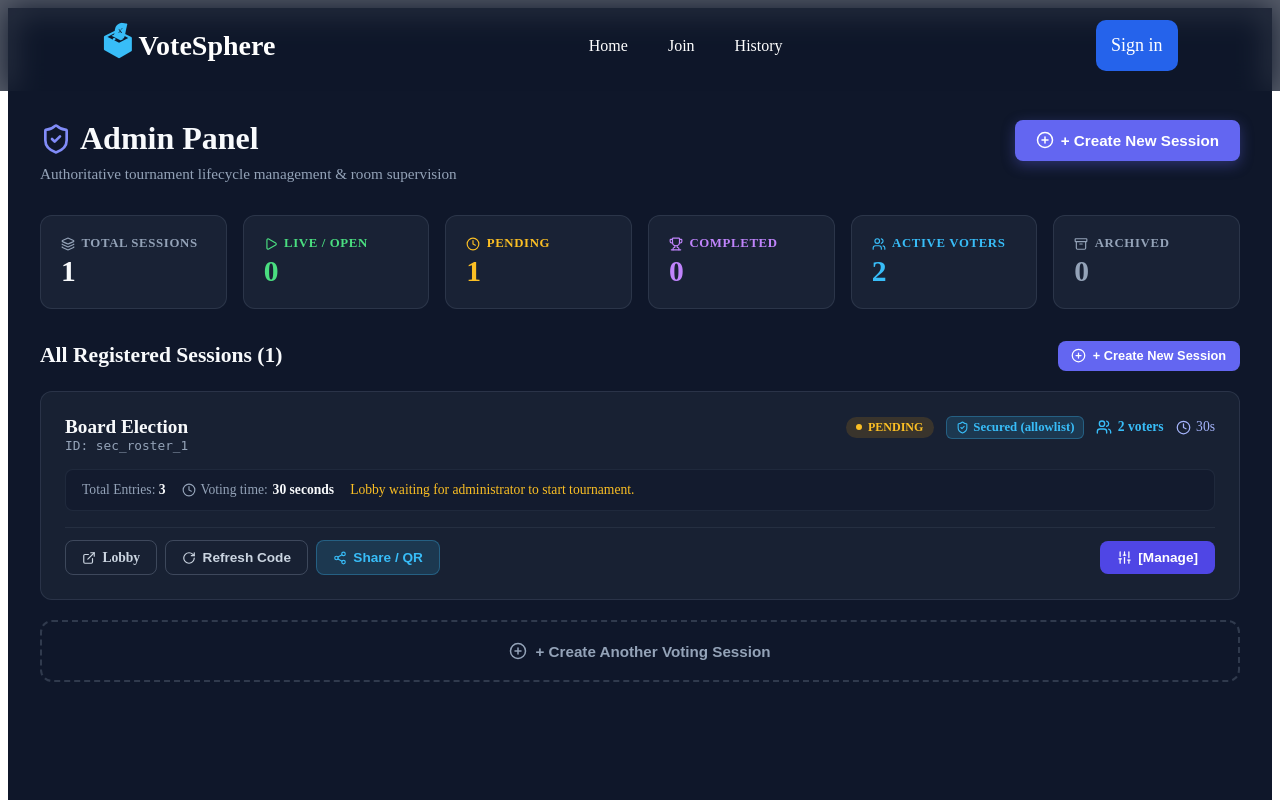
Scenario: Admin roster subscription survives reconnect (review minor 2026-10-03) › subscribes to the roster when Manage is opened
The image size is (1280, 800).
Click the button with test id "manage-session-sec_roster_1" at (1157, 558), box [1100,541,1215,574]
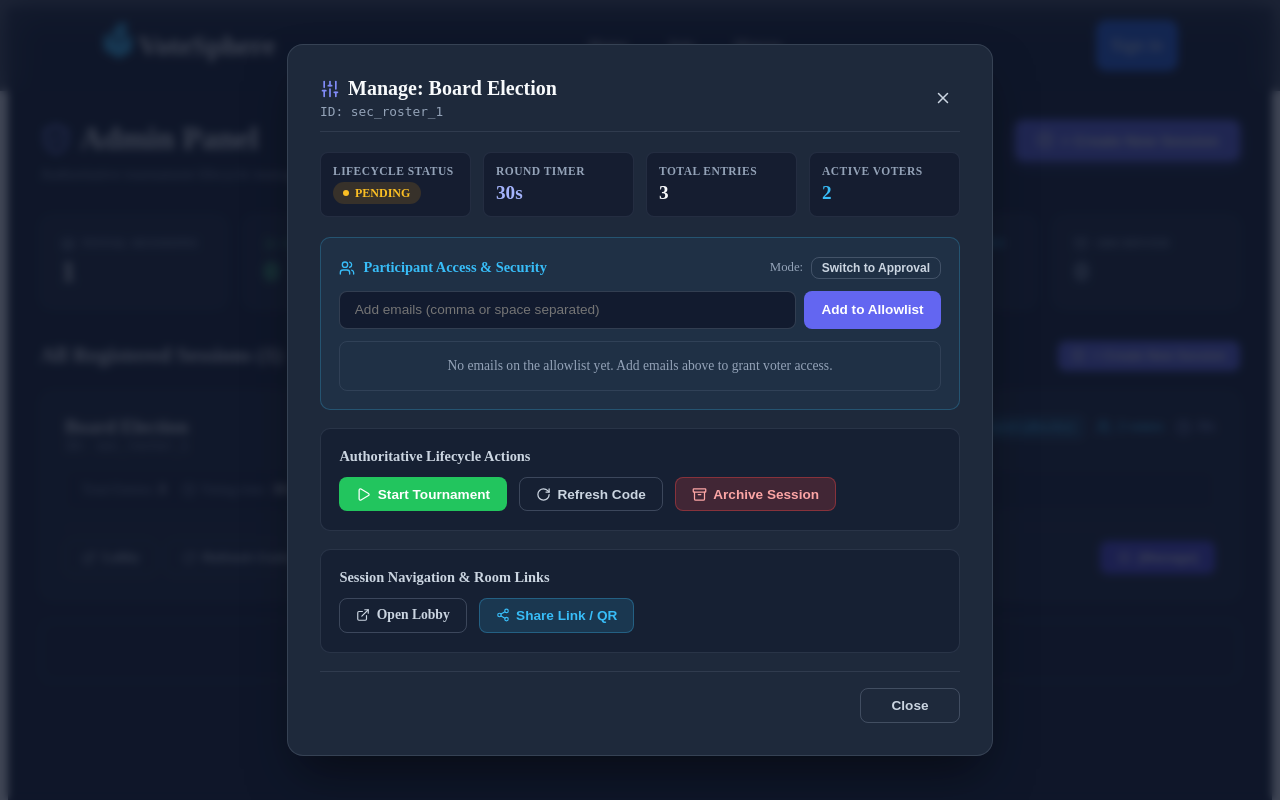
Expected: the dialog with test id "manage-session-modal" is shown
